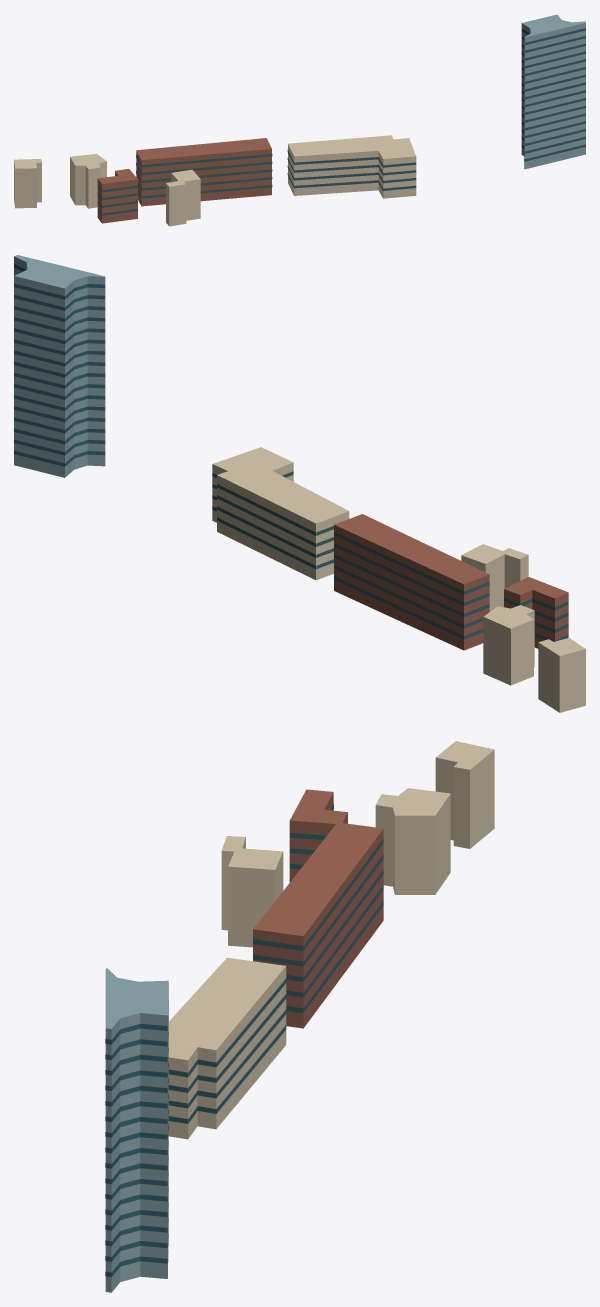
Rendered from city_1_-8.glb.
3 renders of one model, top to bottom at view 1: azimuth 30°, elevation 25°; view 2: azimuth 150°, elevation 25°; view 3: azimuth 270°, elevation 25°, orthographic. The views are drawn at different scales.
Visible parts, largest first — view 1: city_1_-8; view 2: city_1_-8; view 3: city_1_-8.
Boxes of the visible parts, x1,y1,x2,y2 form: city_1_-8: [14, 14, 585, 226]; city_1_-8: [14, 255, 585, 712]; city_1_-8: [105, 741, 494, 1292].
Bounding box in the file's own units: 261 × 68 × 90.98.
